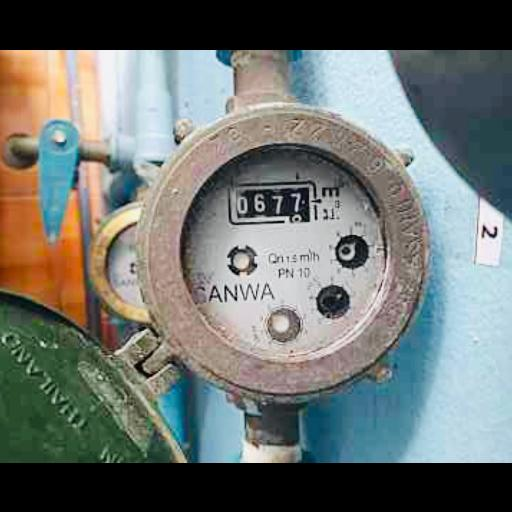0: (236, 189, 253, 217)
6: (253, 188, 269, 216)
7: (289, 187, 310, 222), (269, 188, 289, 216)
border_water_meter_number: (227, 180, 318, 224)
